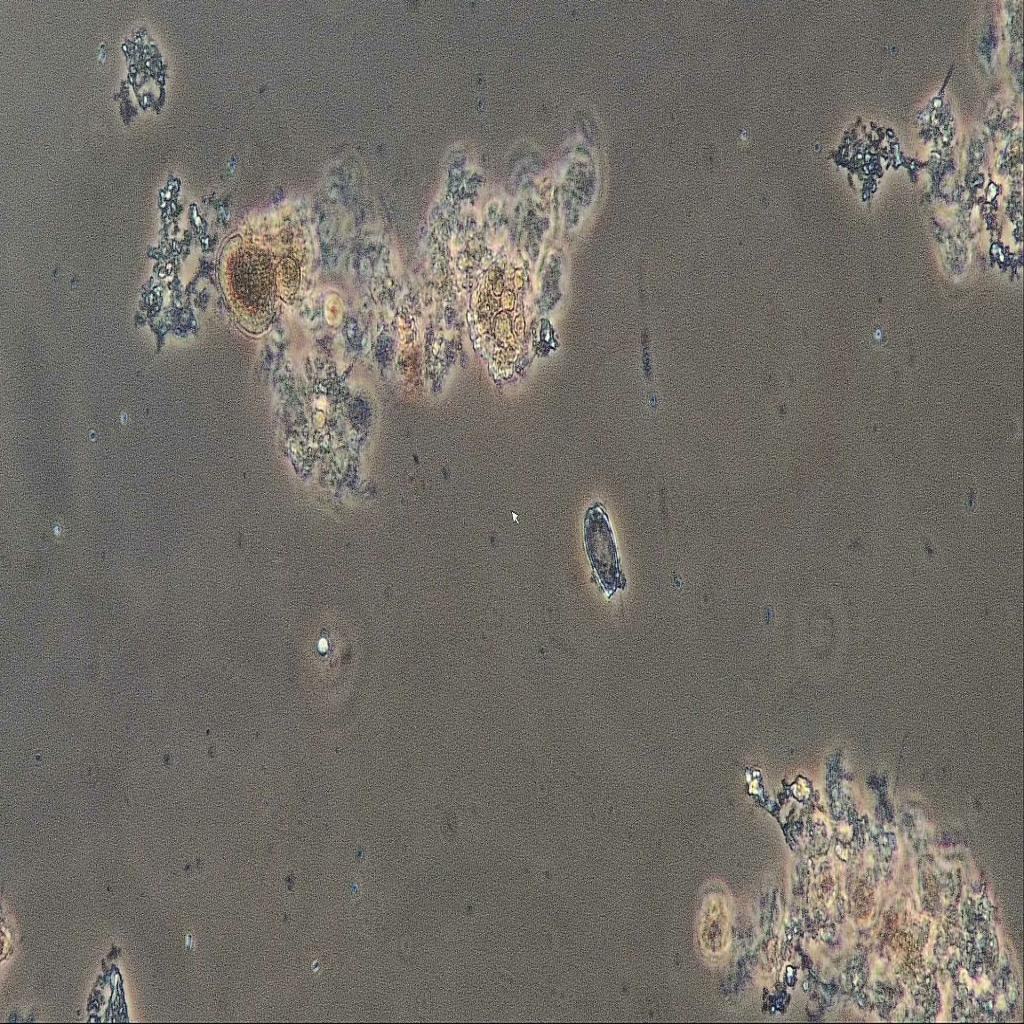Euglypha: (564, 472, 642, 625)
